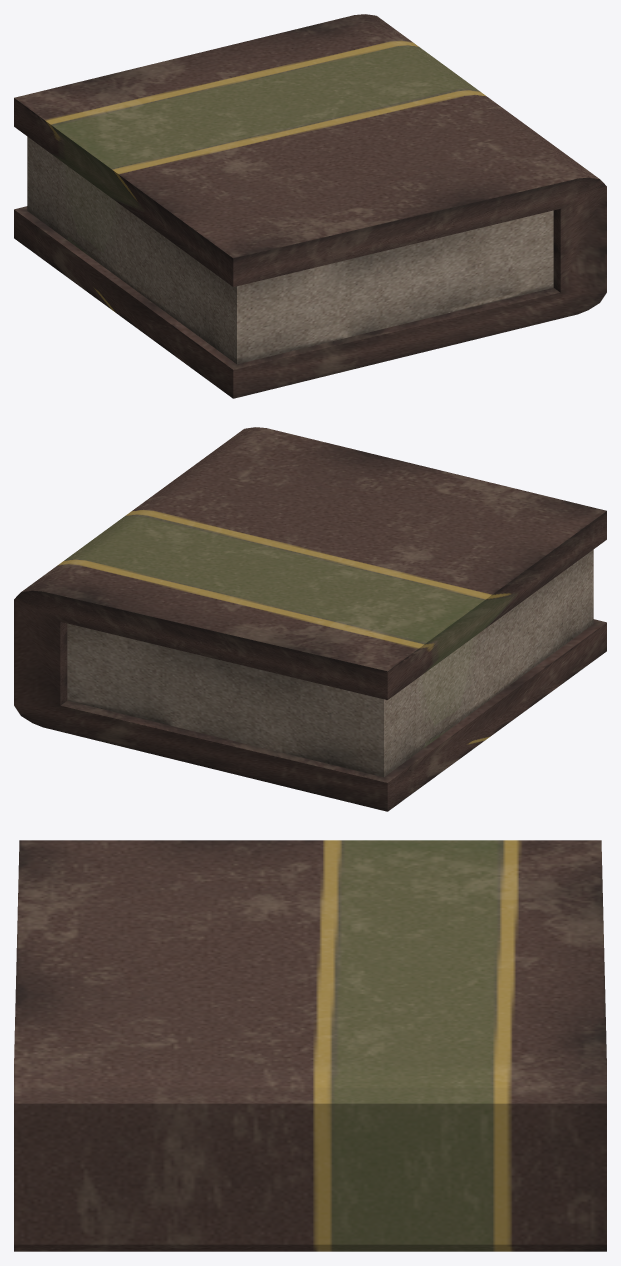
File: Book_Textbook.fbx
The picture shows the model from 3 angles, top to bottom: view 1: azimuth 30°, elevation 25°; view 2: azimuth 150°, elevation 25°; view 3: azimuth 270°, elevation 25°; orthographic projection. The views are drawn at different scales.
Parts seen in each view (by area): view 1: Cube.004; view 2: Cube.004; view 3: Cube.004.
Boxes of the visible parts, x1,y1,x2,y2 form: Cube.004: [14, 14, 606, 398]; Cube.004: [14, 427, 606, 811]; Cube.004: [14, 840, 606, 1251].
Size of the model in its own units: 1243 by 449 by 1294.
